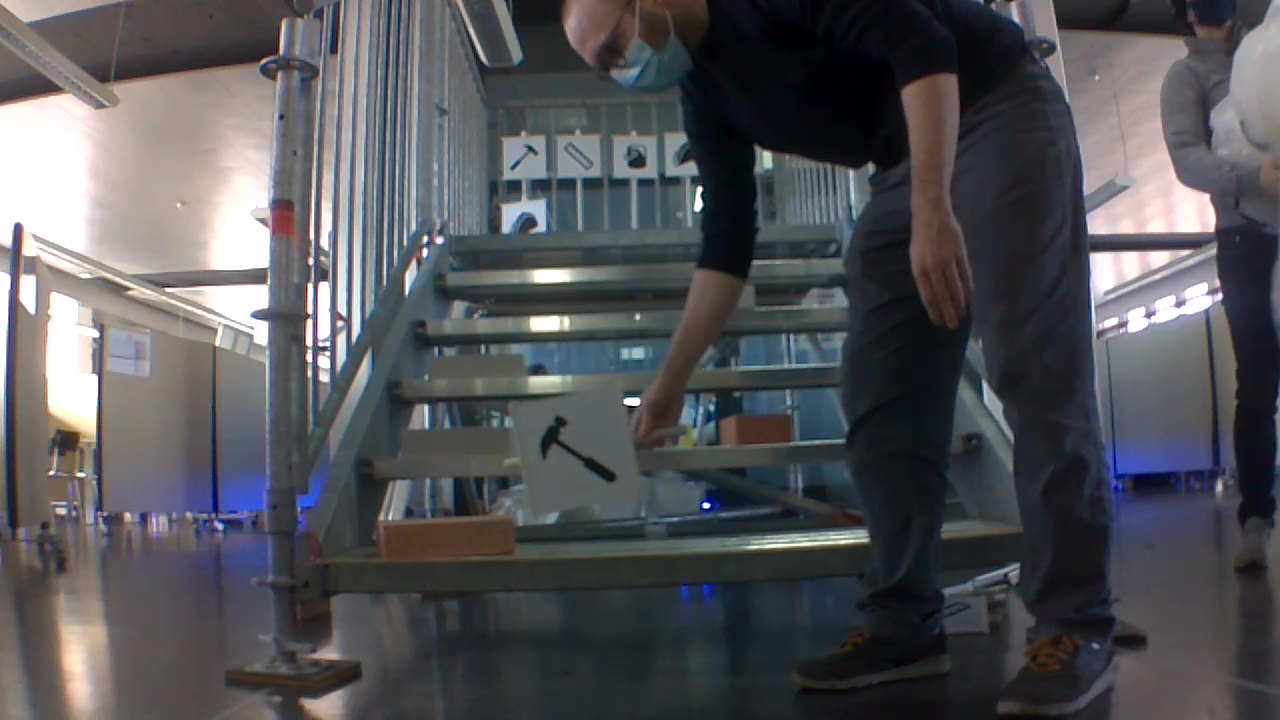brick: (375, 513, 511, 559), (403, 428, 512, 458), (426, 354, 524, 381), (720, 413, 791, 443)
bucket: (618, 140, 652, 172)
hammer: (526, 412, 621, 487), (506, 140, 542, 174)
ruler: (561, 138, 597, 174)
taco: (507, 208, 539, 234)
